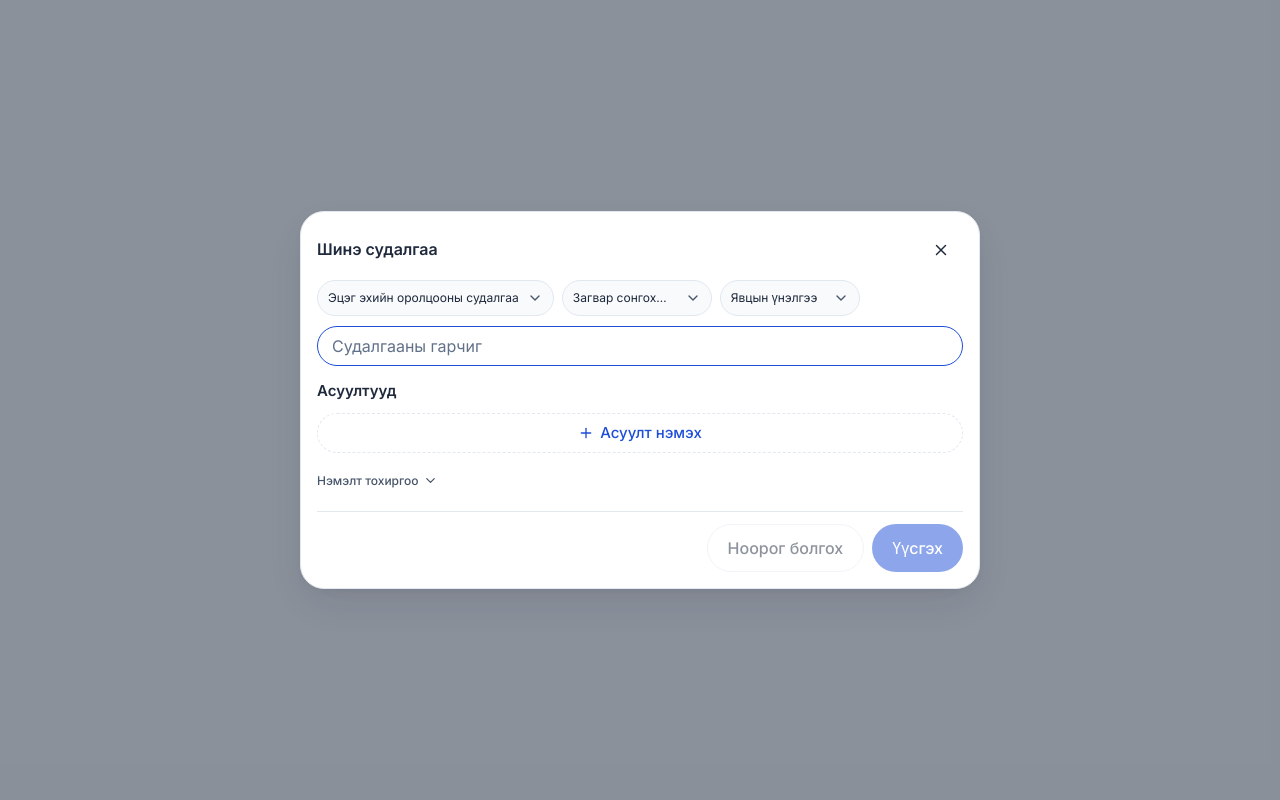
single-page survey creation › is compact: small pickers, no extra captions, the preview an eye at the foot
The width and height of the screenshot is (1280, 800).
Click the button "Асуулт нэмэх" at (640, 433), box [317,413,963,453]
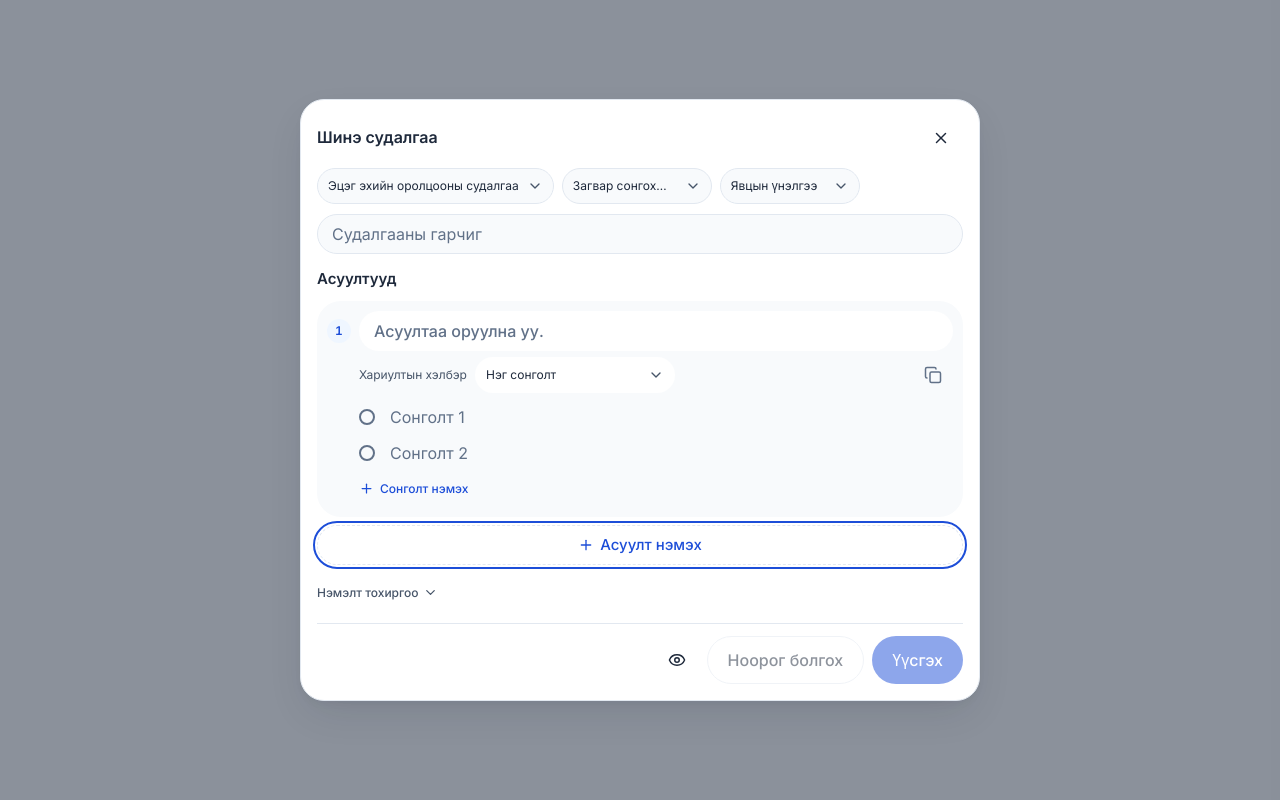
Expected: the button named "Урьдчилан харах" does not show "Урьдчилан харах", [655,638,699,682]
Expected: the field named "1-р асуултын текст" is shown, [359,311,953,351]
